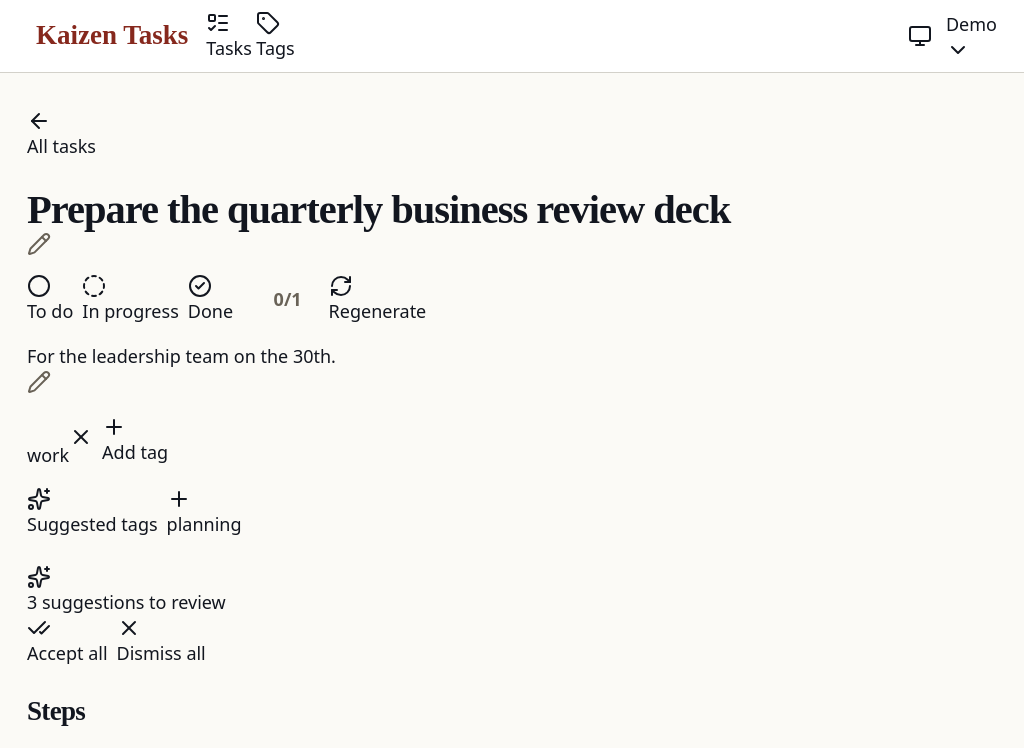
it: detail AI state › shows the conflict message when a generation is already active
Click the button "Regenerate": (377, 300) [329, 274, 426, 325]
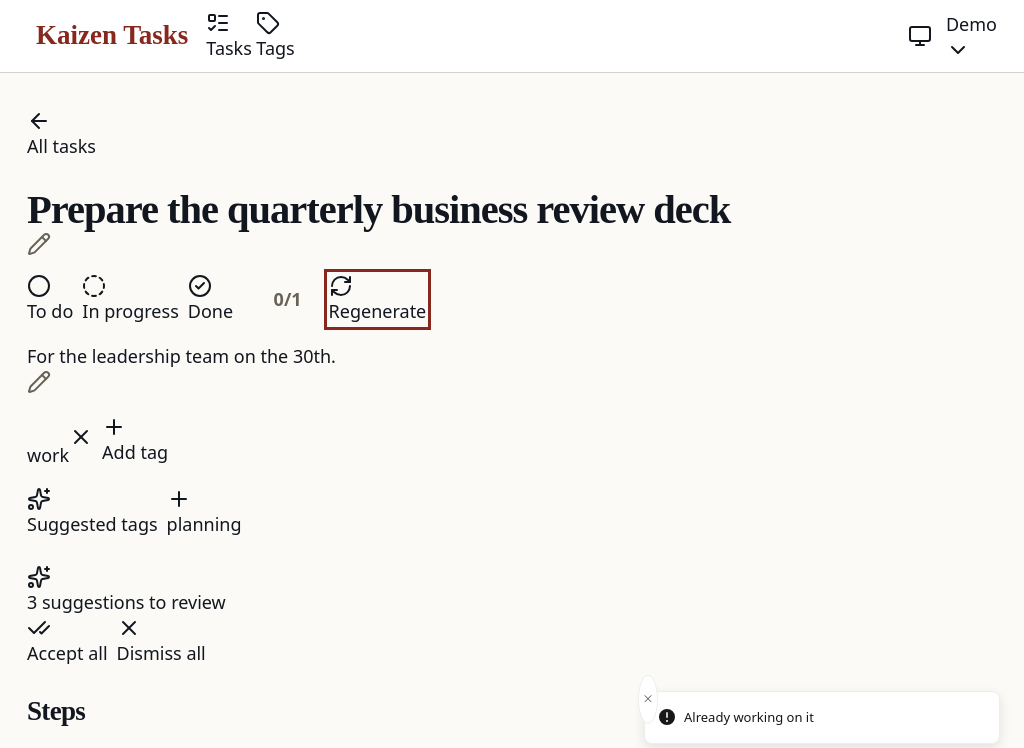
Check: the text "Already working on it" is shown, box [684, 708, 814, 727]
